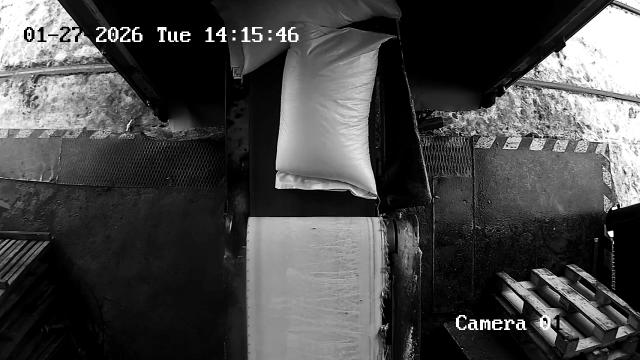bag: (276, 22, 395, 199), (214, 0, 402, 79)
